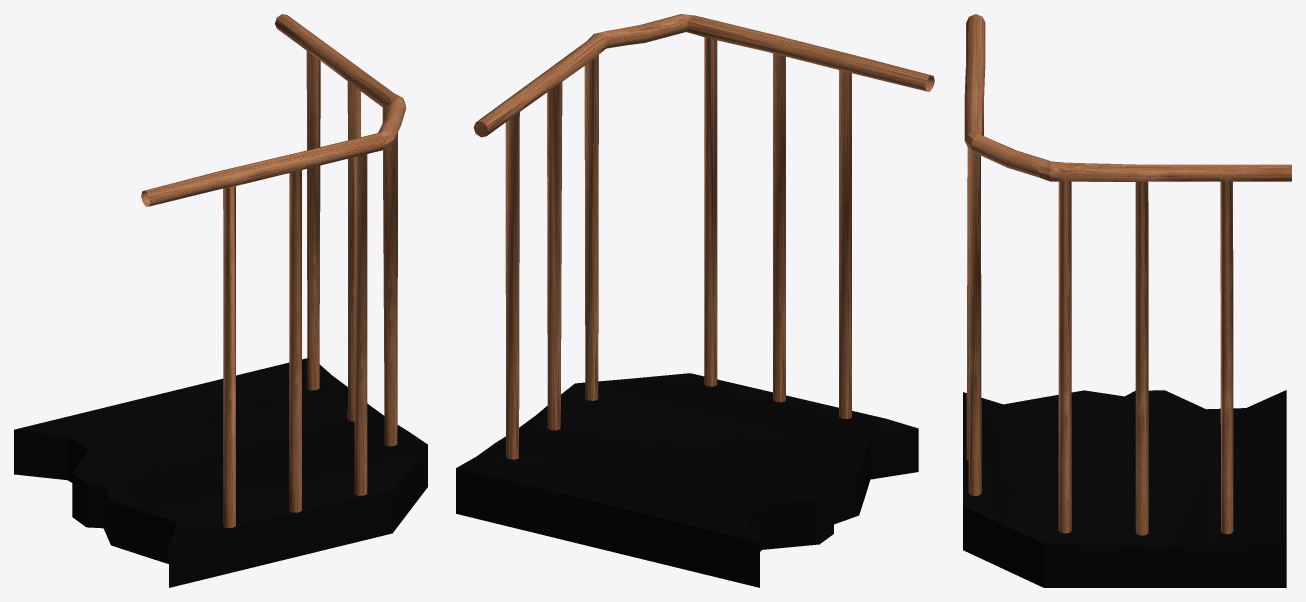
File: balconDerecho.FBX
3 views of the same model, side by side, from view 1: azimuth 30°, elevation 25°; view 2: azimuth 150°, elevation 25°; view 3: azimuth 270°, elevation 25° (orthographic). The views are drawn at different scales.
Visible parts, largest first — view 1: Terraza1; view 2: Terraza1; view 3: Terraza1.
Boxes of the visible parts, x1,y1,x2,y2 form: Terraza1: (14,14,427,587); Terraza1: (456,14,934,587); Terraza1: (963,14,1291,587).
Size of the model in its own units: 117 by 142 by 102.
